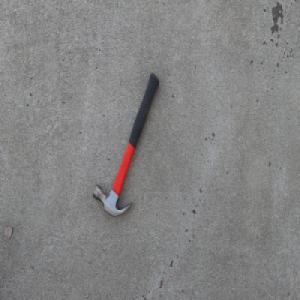Hammer: (92, 72, 159, 219)
